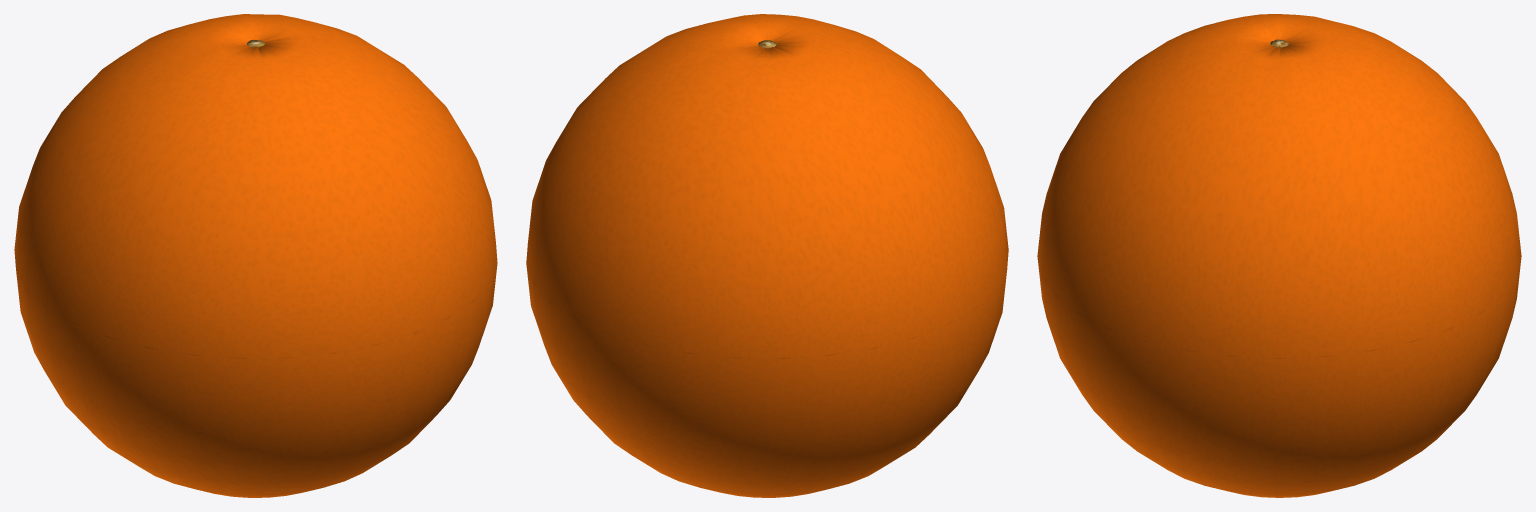
Rendered from Orange_dae.gltf.
3 views of the same model, side by side, from view 1: azimuth 30°, elevation 25°; view 2: azimuth 150°, elevation 25°; view 3: azimuth 270°, elevation 25° (orthographic).
Parts seen in each view (by area): view 1: Orange; view 2: Orange; view 3: Orange.
Part boxes in pixels (x1,y1,x2,y2): Orange: (14, 14, 497, 497); Orange: (526, 14, 1008, 497); Orange: (1037, 14, 1521, 497).
Size of the model in its own units: 2 by 1.96 by 2.
Materials: 2 (2 with a texture image).
